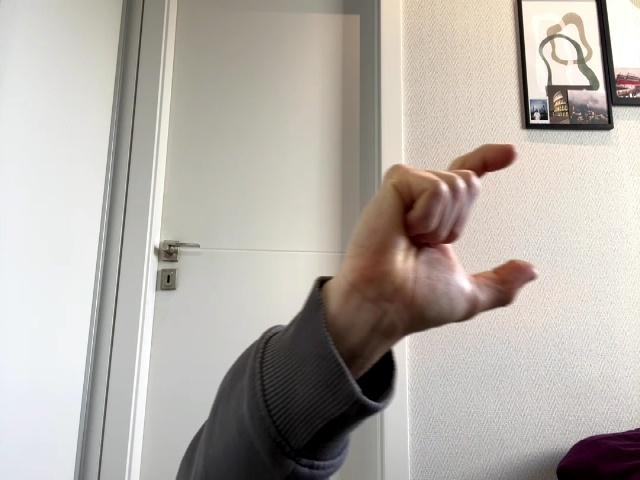C: (344, 144, 540, 347)
